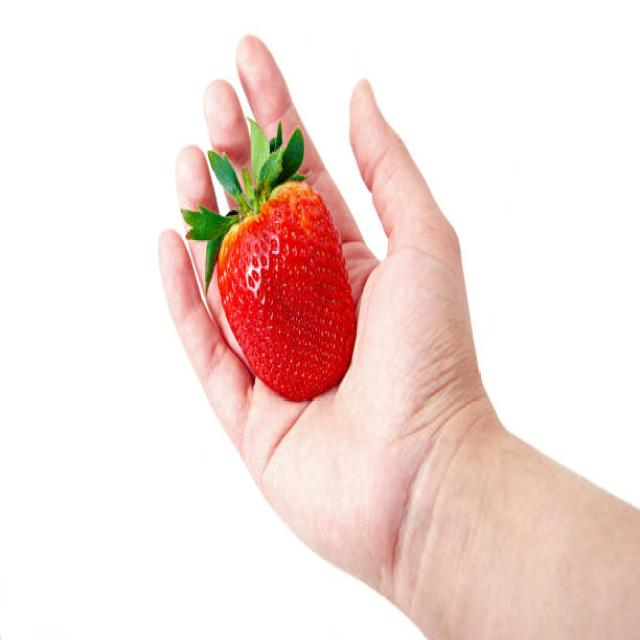Healthy Fruit: (216, 184, 355, 399)
